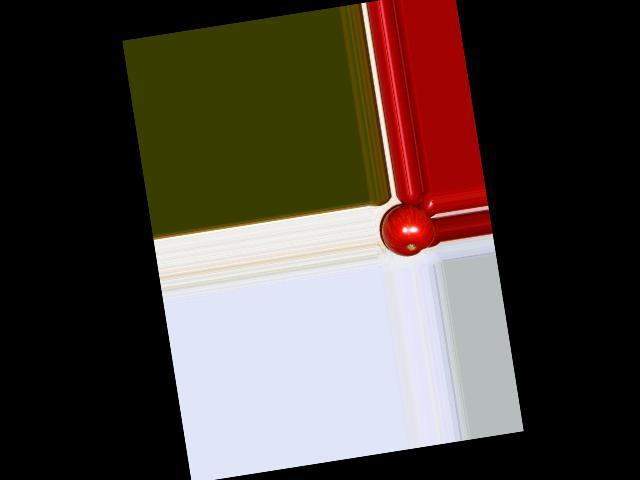tomato: (377, 200, 438, 260)
